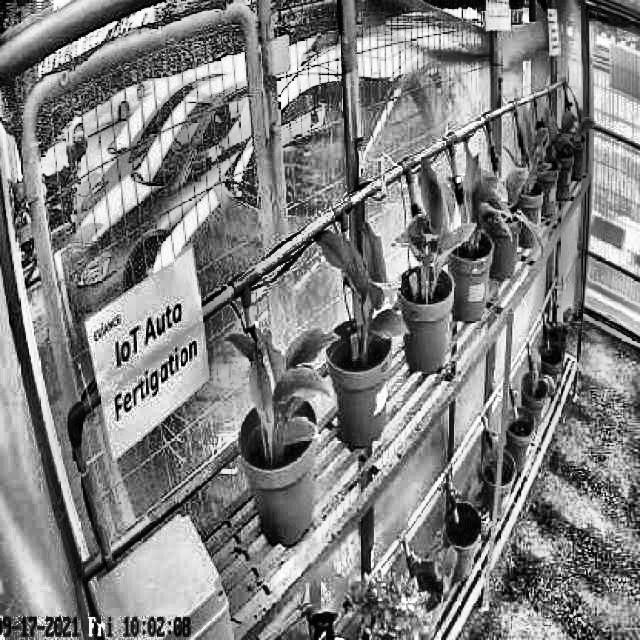plants: (226, 322, 337, 446), (316, 223, 410, 343), (394, 162, 472, 288), (462, 146, 509, 248), (520, 112, 548, 190)
